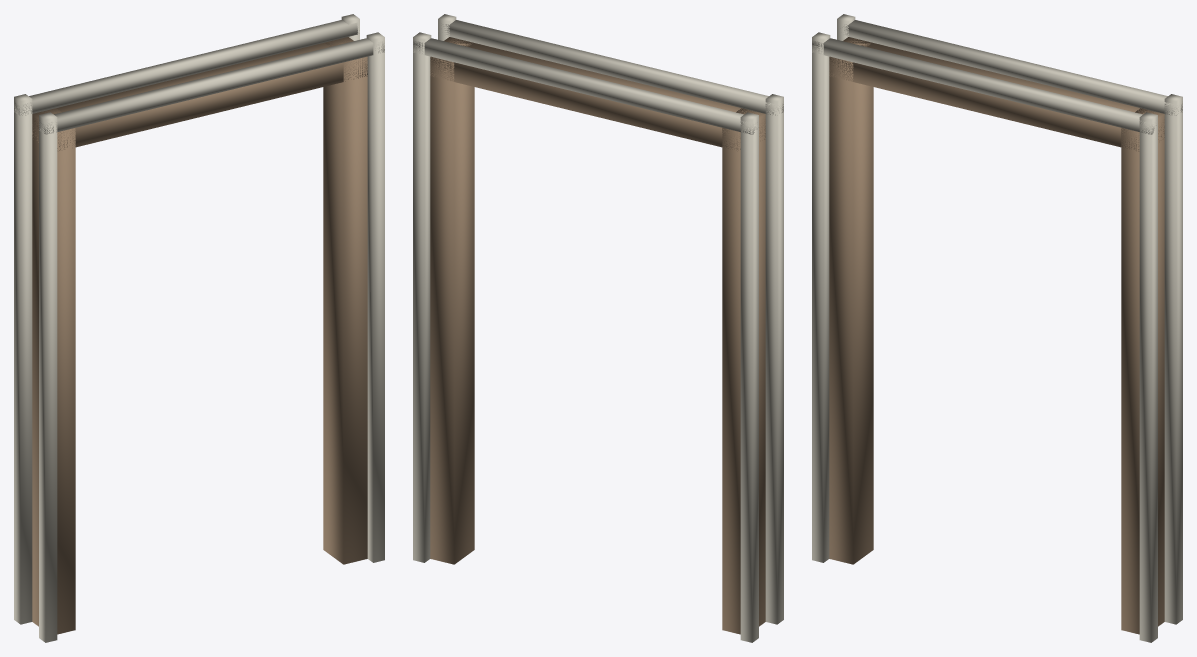
Rendered from doorway_painted_trim_w122_h210_d16.glb.
The picture shows the model from 3 angles, left to right: view 1: azimuth 30°, elevation 25°; view 2: azimuth 150°, elevation 25°; view 3: azimuth 330°, elevation 25°; orthographic projection.
Parts seen in each view (by area): view 1: world; view 2: world; view 3: world.
Boxes of the visible parts, x1,y1,x2,y2 form: world: [14, 14, 384, 642]; world: [413, 14, 783, 642]; world: [812, 14, 1182, 642].
Bounding box in the file's own units: 1.55 × 2.28 × 0.2496.
